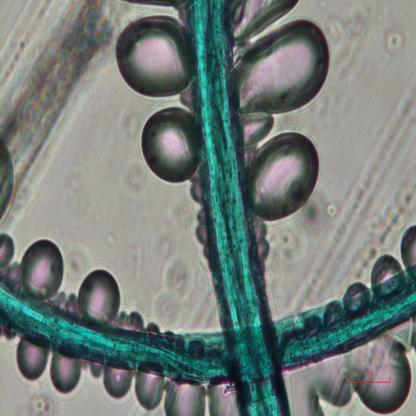Air bubble: (235, 19, 331, 142), (249, 130, 324, 222), (115, 13, 191, 98), (139, 104, 201, 187), (352, 345, 412, 415), (19, 234, 67, 304), (288, 368, 355, 416), (76, 267, 124, 327), (229, 0, 299, 40), (0, 134, 21, 226), (14, 338, 48, 384), (163, 382, 207, 415), (50, 354, 82, 396), (134, 370, 166, 412), (99, 364, 133, 403), (206, 382, 240, 414), (370, 252, 401, 280), (398, 223, 416, 270)
Background material: (11, 0, 111, 150), (355, 190, 416, 275), (150, 241, 193, 324), (278, 227, 333, 282), (327, 9, 374, 72), (346, 150, 384, 226), (300, 194, 348, 245), (54, 154, 90, 216), (28, 392, 62, 415), (384, 27, 406, 57)
Microfibre: (0, 264, 416, 389), (184, 0, 292, 415)
